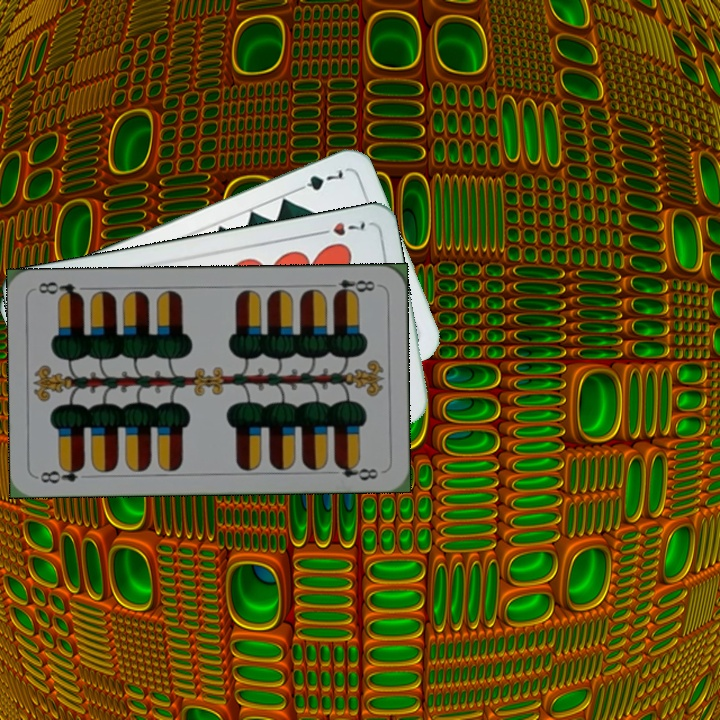E8: (322, 275, 381, 299), (37, 461, 86, 487)
G7: (290, 165, 346, 195)
H7: (312, 216, 368, 239)
